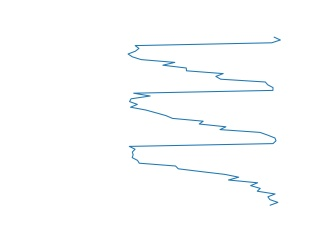distributaryMouthBar: (125, 35, 285, 208)
